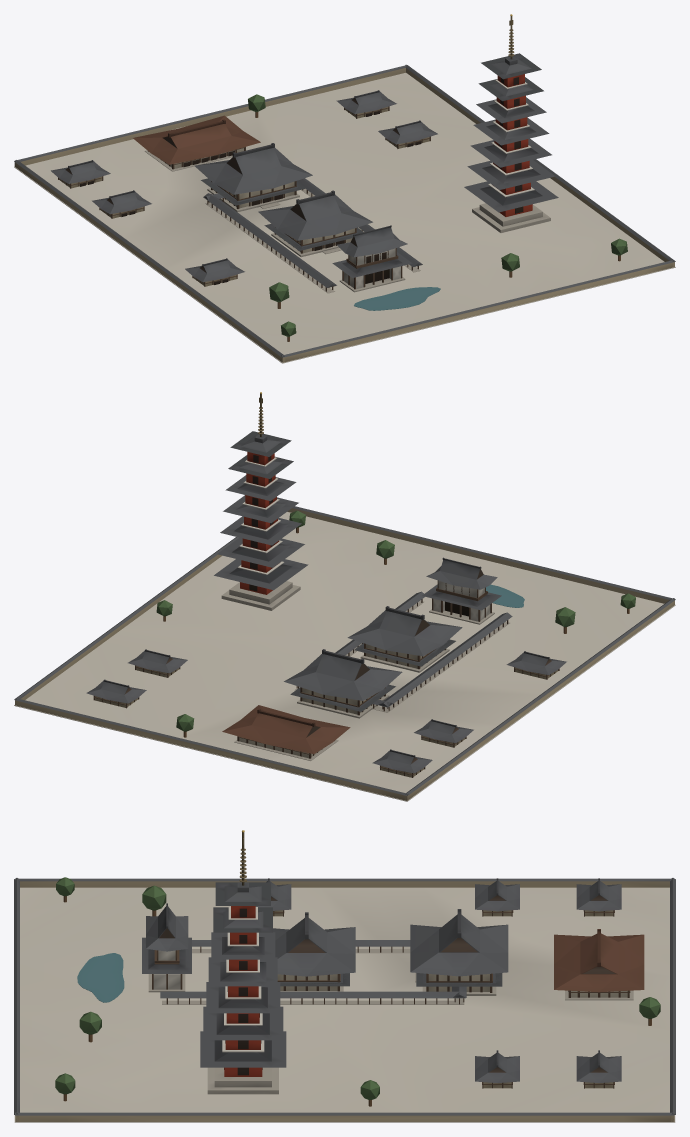
File: shokokuji.glb
3 renders of one model, top to bottom at view 1: azimuth 30°, elevation 25°; view 2: azimuth 150°, elevation 25°; view 3: azimuth 270°, elevation 25°, orthographic. The views are drawn at different scales.
Parts seen in each view (by area): view 1: p0_grounds, p2_roofs, p1_halls; view 2: p0_grounds, p2_roofs, p1_halls; view 3: p0_grounds, p2_roofs, p1_halls.
Boxes of the visible parts, x1,y1,x2,y2 form: p0_grounds: [14, 64, 675, 363]; p2_roofs: [51, 14, 627, 341]; p1_halls: [58, 106, 430, 293]; p0_grounds: [14, 506, 675, 801]; p2_roofs: [86, 392, 635, 773]; p1_halls: [93, 580, 559, 777]; p0_grounds: [14, 878, 675, 1122]; p2_roofs: [55, 830, 660, 1106]; p1_halls: [148, 910, 633, 1088].
Size of the model in its own units: 220 by 108 by 260.
